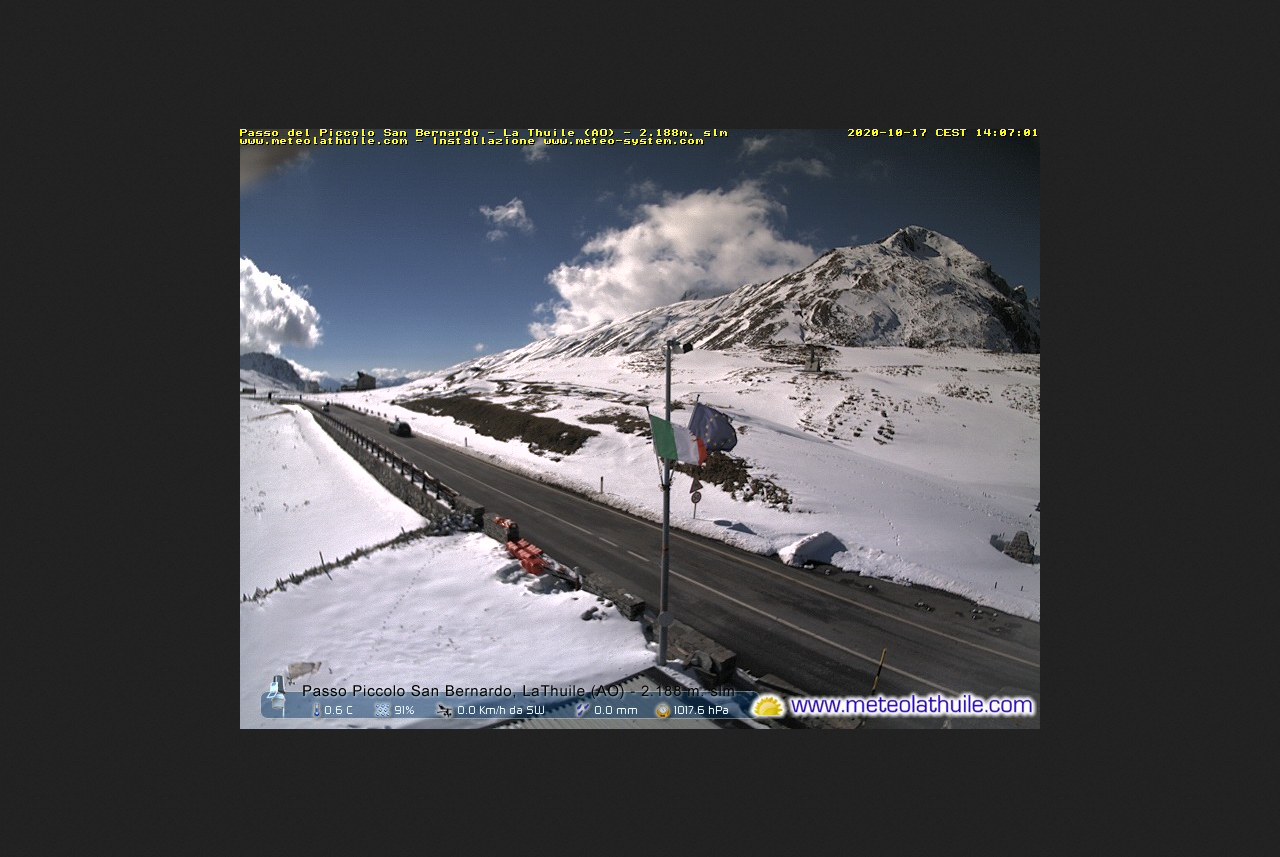yes: (646, 415, 713, 473), (693, 395, 740, 457)
